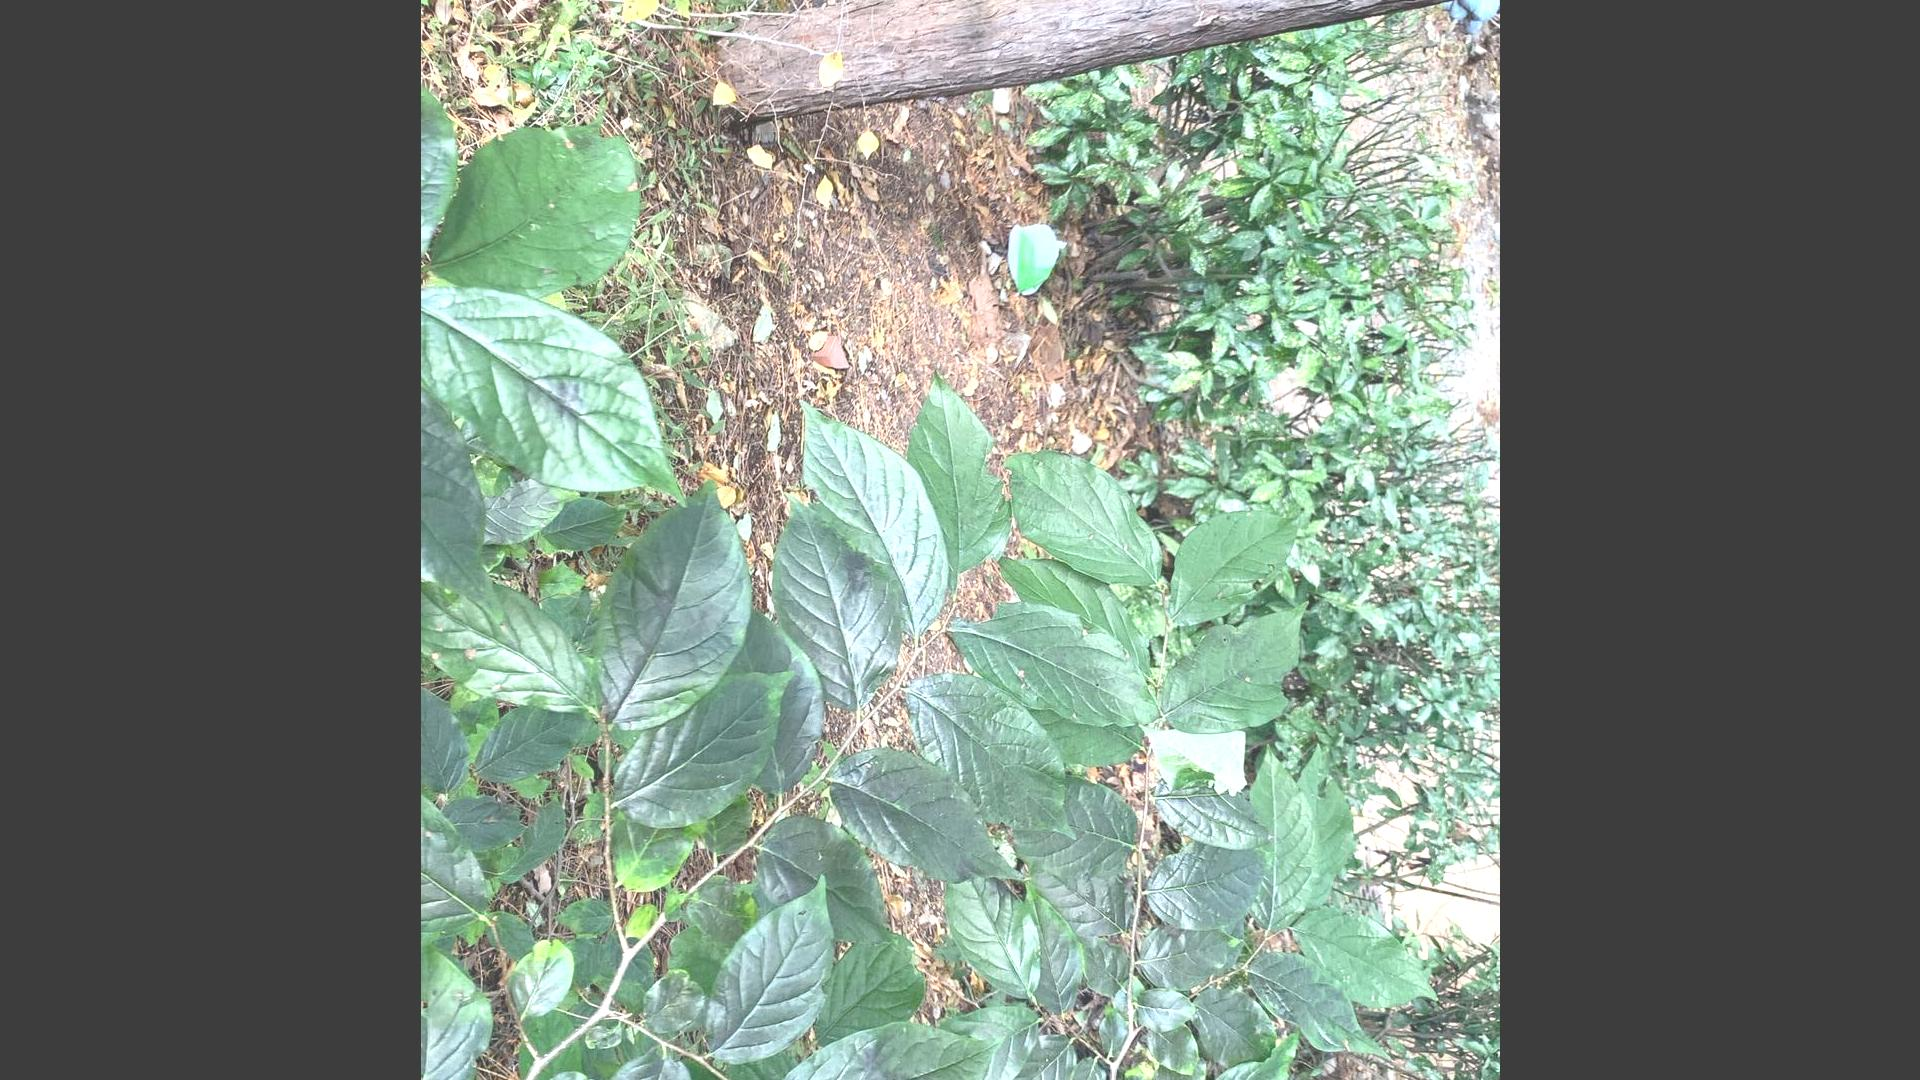white_bag: (996, 210, 1077, 306)
